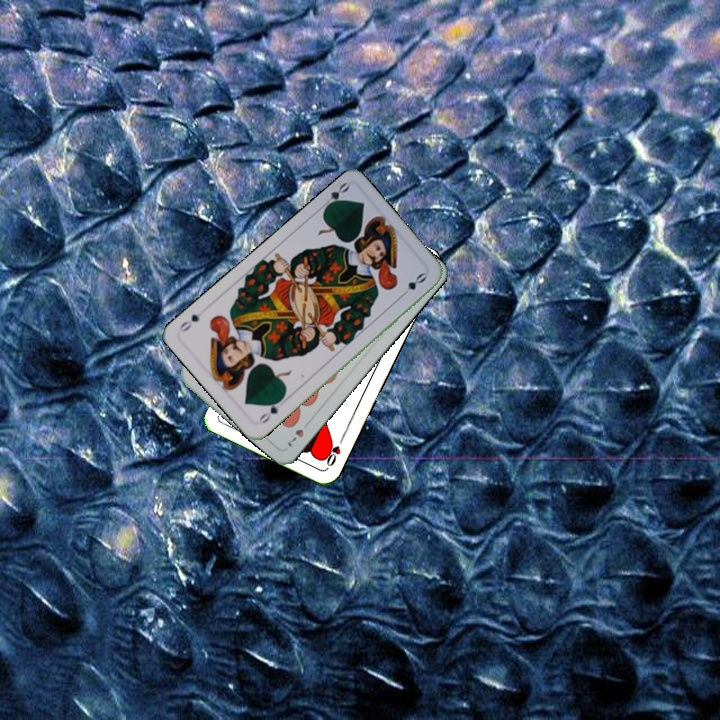GO: (317, 178, 352, 213), (254, 394, 286, 427)
H7: (284, 417, 313, 450)
HO: (321, 432, 347, 469)
